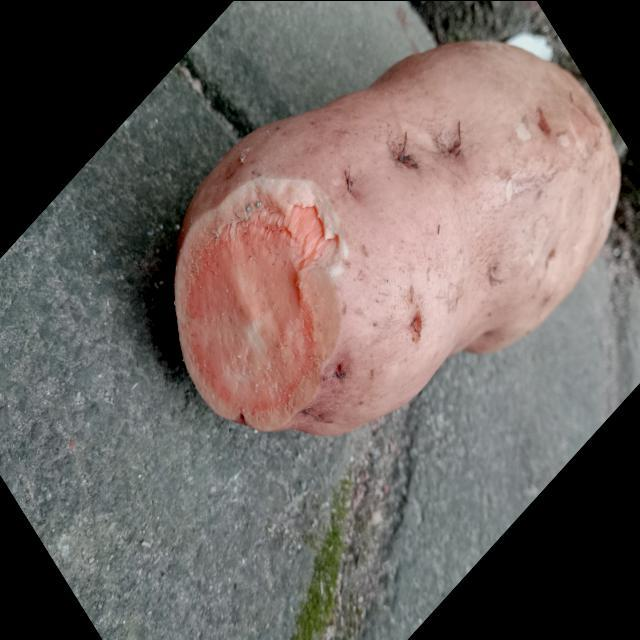Healthy Sweet Potato: (175, 177, 340, 430)
